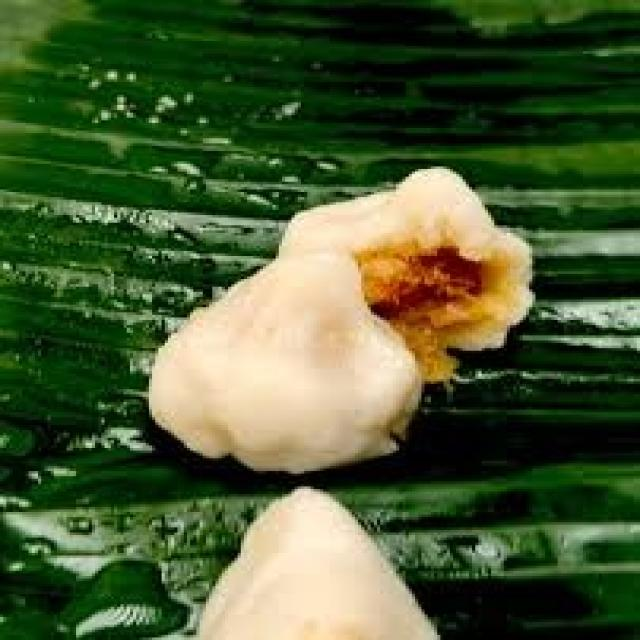poorna kolukattai: (44, 146, 529, 640)
